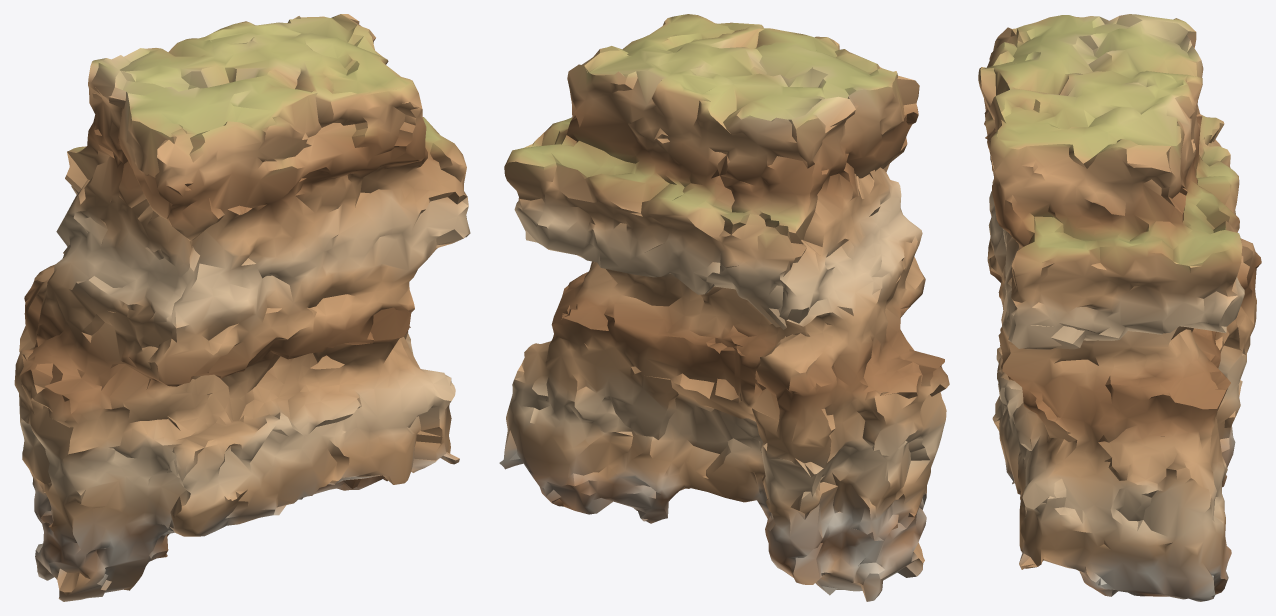
Rendered from shore_cliff_b.glb.
3 renders of one model, left to right at view 1: azimuth 30°, elevation 25°; view 2: azimuth 150°, elevation 25°; view 3: azimuth 270°, elevation 25°, orthographic. The views are drawn at different scales.
Visible parts, largest first — view 1: shore_cliff_b; view 2: shore_cliff_b; view 3: shore_cliff_b.
Boxes of the visible parts, bbox=[...] form: shore_cliff_b: bbox=[14, 14, 470, 601]; shore_cliff_b: bbox=[499, 14, 949, 601]; shore_cliff_b: bbox=[978, 14, 1261, 601].
Bounding box in the file's own units: 21.33 × 25.63 × 12.93.
